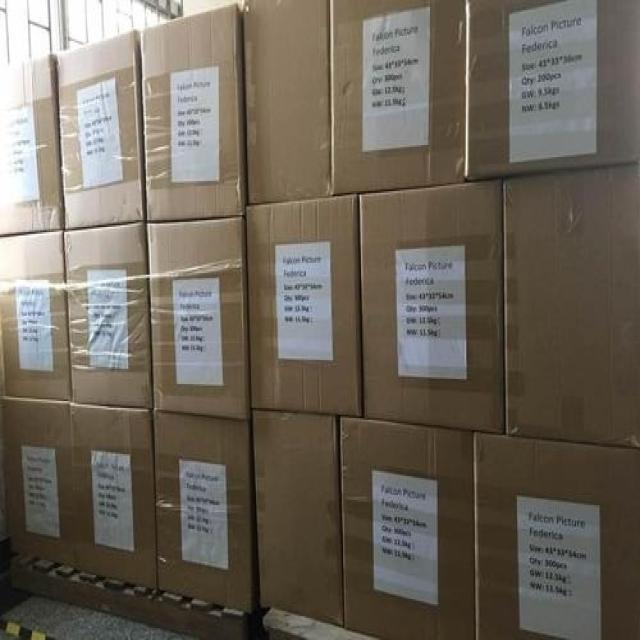box: (502, 164, 640, 451), (358, 179, 504, 433), (475, 433, 640, 640), (466, 0, 640, 183), (339, 416, 474, 640), (330, 0, 466, 196), (244, 195, 361, 416), (152, 411, 259, 640), (140, 2, 244, 224), (146, 217, 251, 418), (69, 403, 157, 630), (252, 411, 343, 626), (242, 0, 333, 207), (55, 29, 146, 232), (63, 225, 152, 408), (0, 398, 70, 602), (0, 229, 72, 401), (0, 56, 63, 236)
